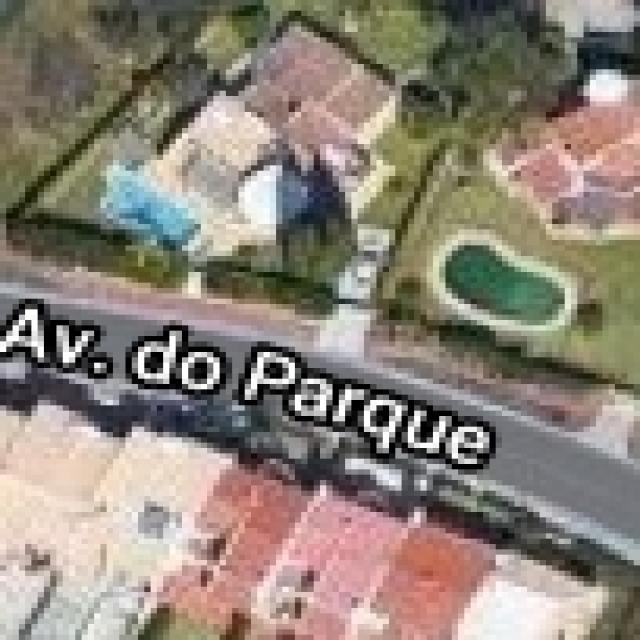swimming pool: (94, 155, 201, 245)
